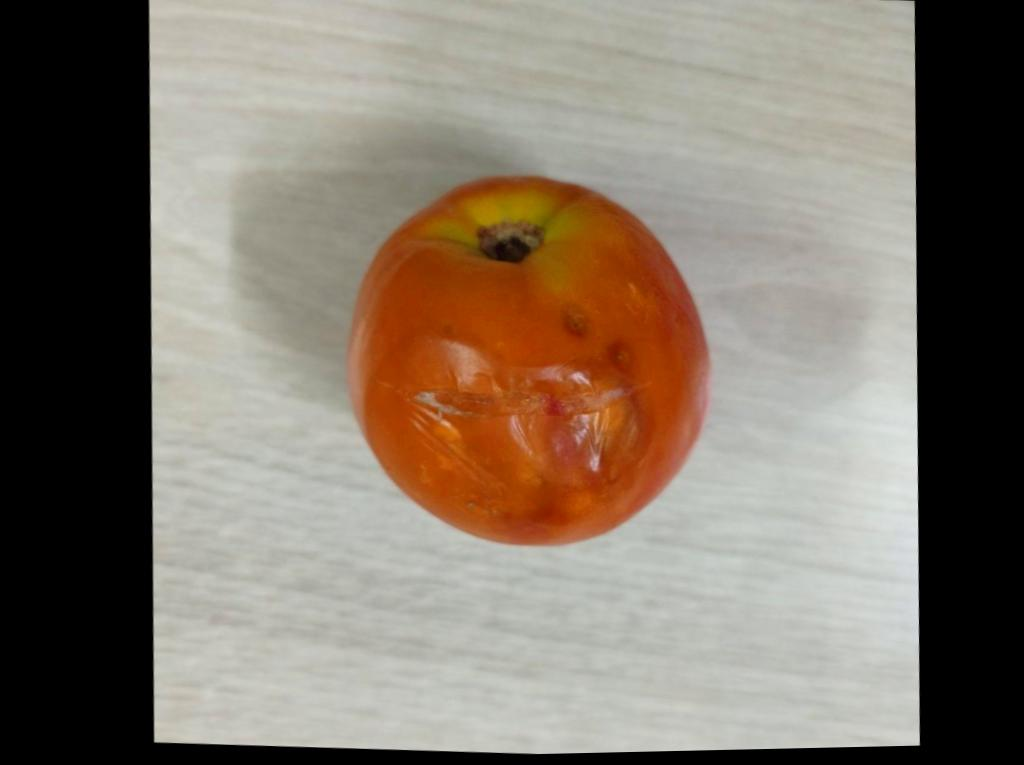bruise_discoloration: (389, 337, 650, 426)
surface_damage: (386, 382, 647, 415), (607, 341, 631, 369), (565, 308, 587, 331)
tomato: (349, 176, 708, 543)
